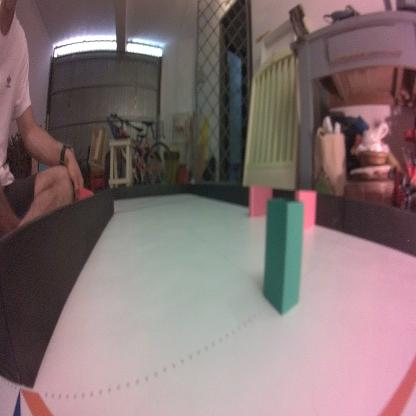green: (261, 196, 303, 315)
magenta: (248, 183, 272, 216), (297, 188, 317, 226)
